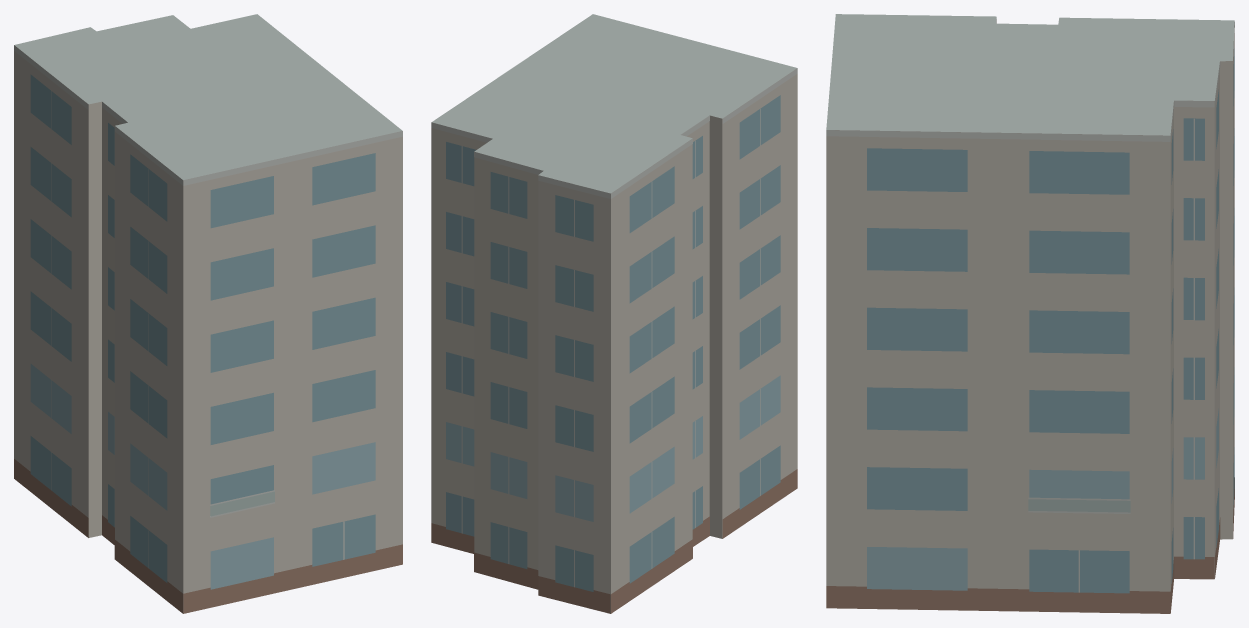
Rendered from survey-upis-32663286.glb.
3 views of the same model, side by side, from view 1: azimuth 30°, elevation 25°; view 2: azimuth 150°, elevation 25°; view 3: azimuth 270°, elevation 25° (orthographic). The views are drawn at different scales.
Visible parts, largest first — view 1: survey-upis-32663286.tmp; view 2: survey-upis-32663286.tmp; view 3: survey-upis-32663286.tmp.
Boxes of the visible parts, box(x1,y1,x2,y2) form: survey-upis-32663286.tmp: box(14, 14, 402, 613); survey-upis-32663286.tmp: box(431, 14, 797, 613); survey-upis-32663286.tmp: box(826, 14, 1234, 613).
Bounding box in the file's own units: 9.99 × 18.3 × 14.17.
